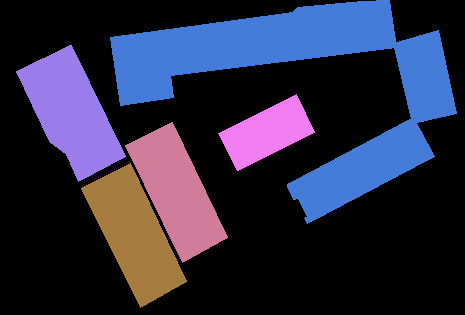parkingspot: (110, 0, 396, 105), (287, 117, 434, 223), (81, 163, 186, 307), (16, 45, 125, 181), (125, 122, 227, 262), (218, 94, 314, 170), (393, 30, 456, 123)
